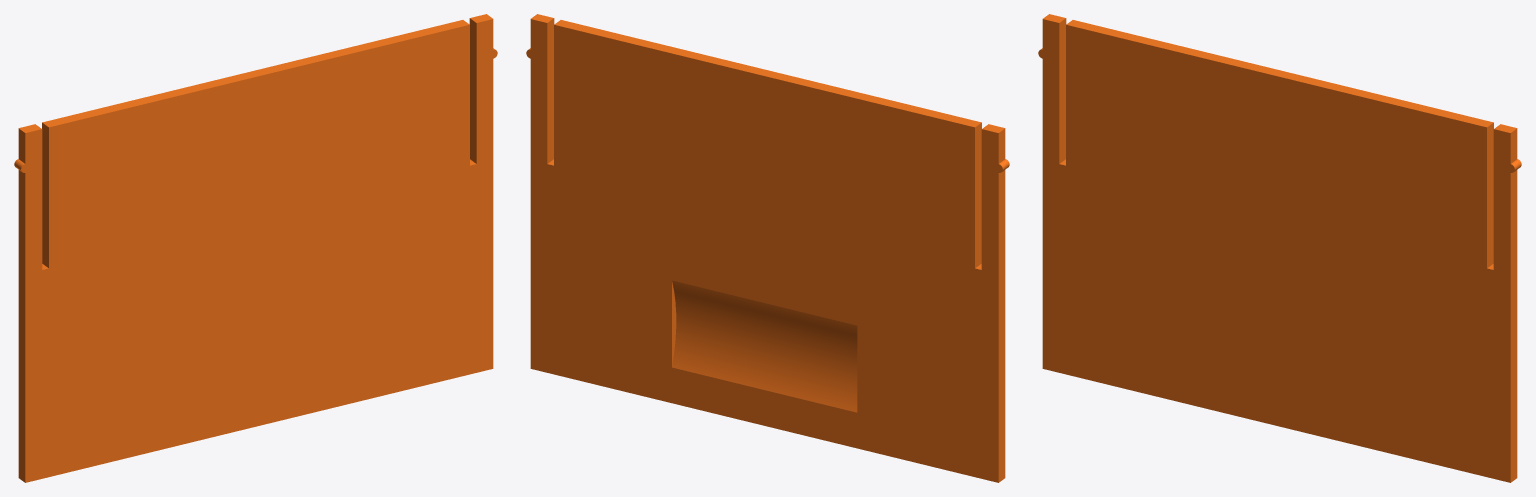
Rendered from battery_door.glb.
3 views of the same model, side by side, from view 1: azimuth 30°, elevation 25°; view 2: azimuth 150°, elevation 25°; view 3: azimuth 330°, elevation 25° (orthographic).
Visible parts, largest first — view 1: Open CASCADE STEP translator 7.9 3; view 2: Open CASCADE STEP translator 7.9 3; view 3: Open CASCADE STEP translator 7.9 3.
Part boxes in pixels (box(x1,y1,x2,y2)): Open CASCADE STEP translator 7.9 3: box(14, 14, 497, 482); Open CASCADE STEP translator 7.9 3: box(526, 14, 1009, 482); Open CASCADE STEP translator 7.9 3: box(1038, 14, 1521, 482).
Bounding box in the file's own units: 0.0566 × 0.0397 × 0.0014.
